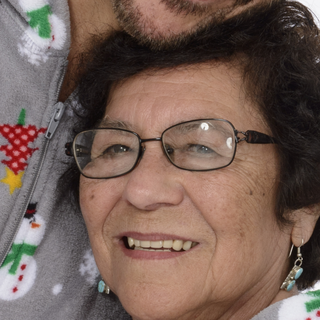eye: (176, 136, 220, 159), (97, 139, 135, 162)
